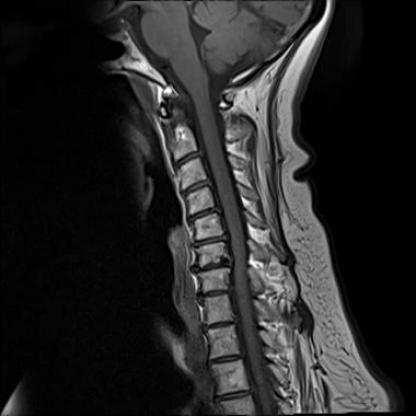Disc Bulgerotation: (190, 258, 235, 274), (192, 235, 231, 248)
